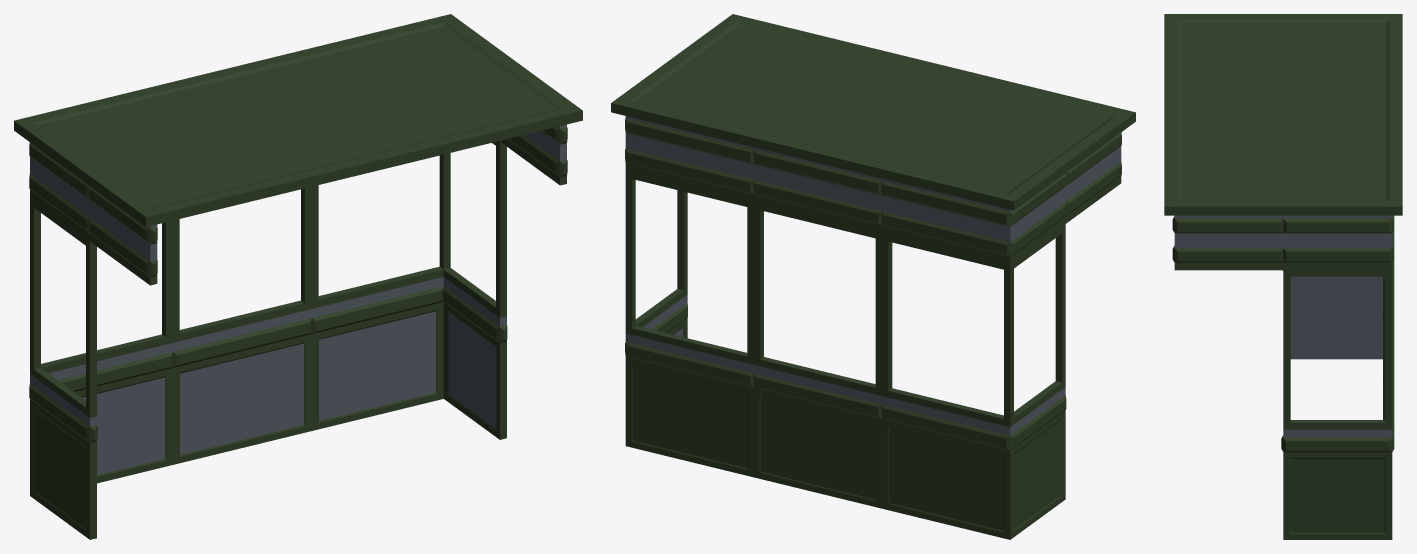
Rendered from BusStop.fbx.
3 views of the same model, side by side, from view 1: azimuth 30°, elevation 25°; view 2: azimuth 150°, elevation 25°; view 3: azimuth 270°, elevation 25° (orthographic). The views are drawn at different scales.
Parts seen in each view (by area): view 1: BusStop; view 2: BusStop; view 3: BusStop.
Boxes of the visible parts, x1,y1,x2,y2 form: BusStop: (14,14,582,539); BusStop: (611,14,1135,539); BusStop: (1164,14,1402,539).
Size of the model in its own units: 314 by 257 by 164.
